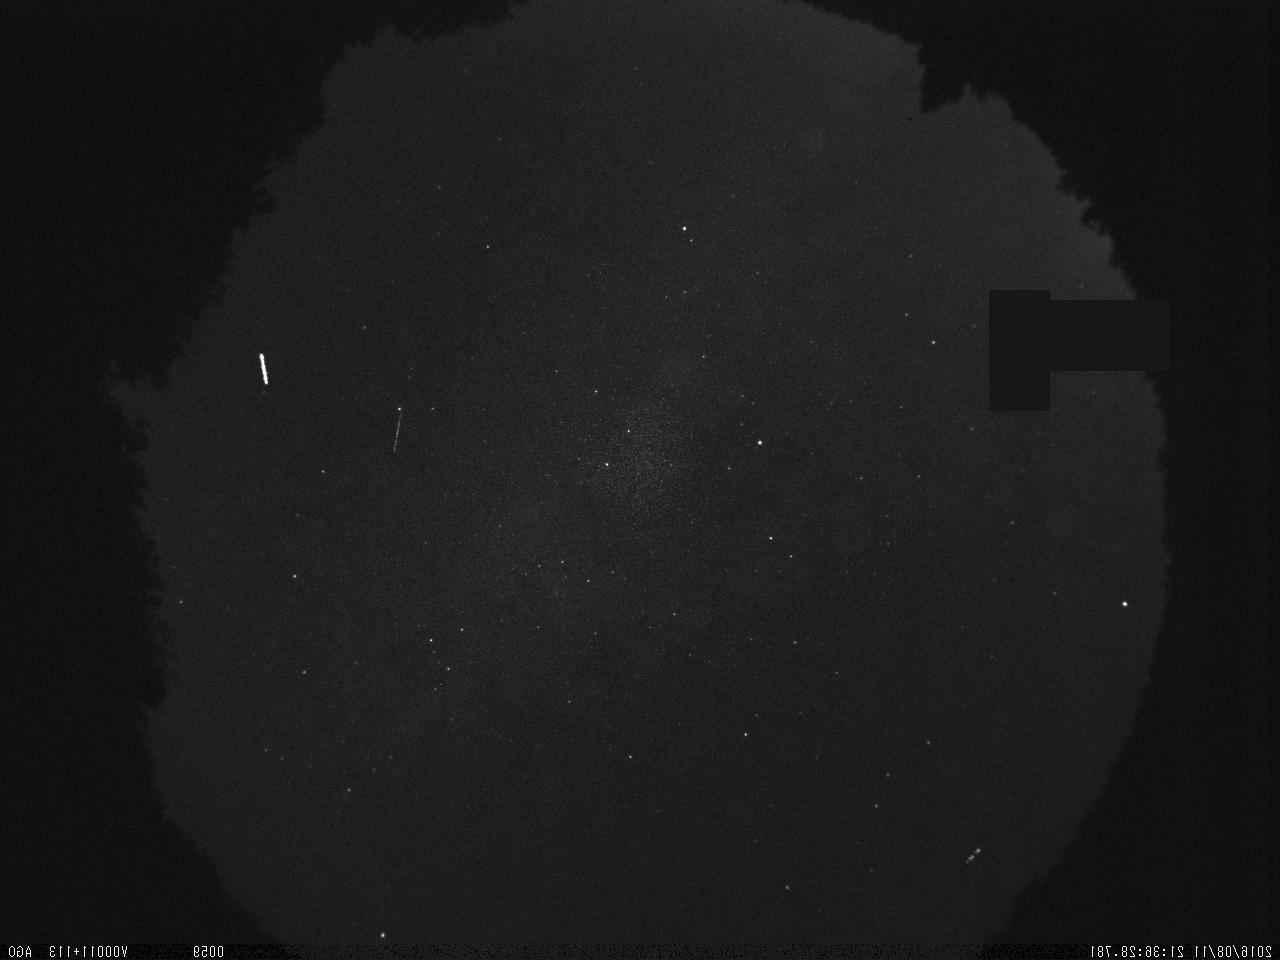meteor: (385, 399, 411, 464)
satelite: (251, 342, 272, 394)
